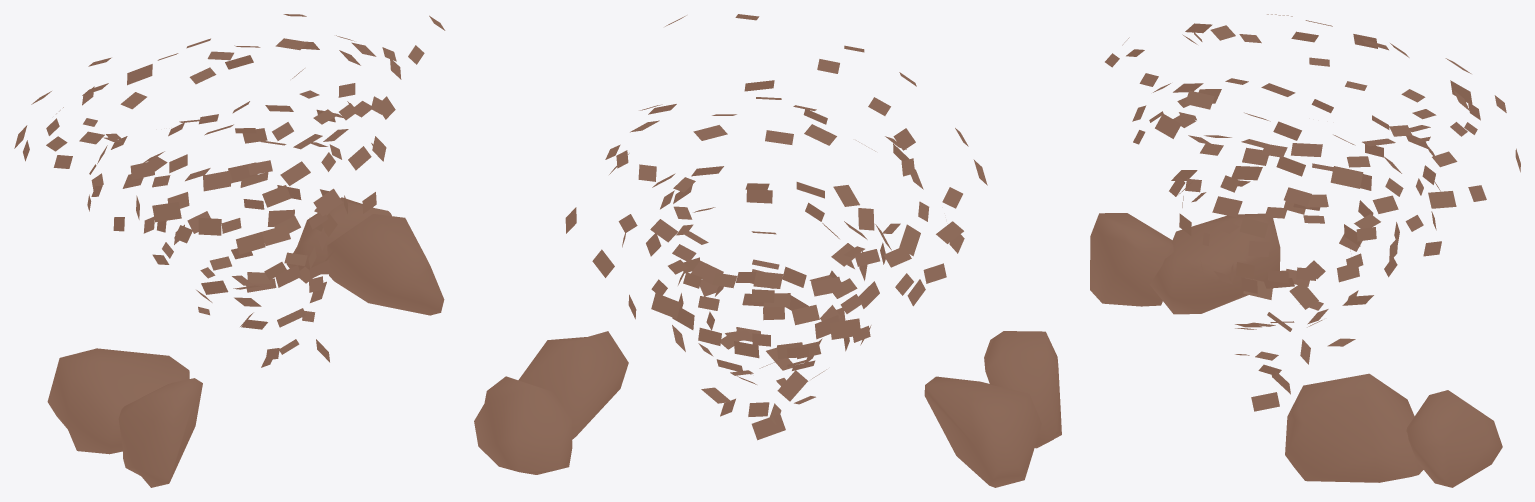
The model's file is sandstorm.fbx.
The picture shows the model from 3 angles, left to right: view 1: azimuth 30°, elevation 25°; view 2: azimuth 150°, elevation 25°; view 3: azimuth 270°, elevation 25°; orthographic projection. The views are drawn at different scales.
Visible parts, largest first — view 1: Helix_3, decorock2_2, decorock2_1, decorock2_3, decorock2; view 2: Helix_3, decorock2_2, decorock2, decorock2_1, decorock2_3; view 3: Helix_3, decorock2_1, decorock2_2, decorock2, decorock2_3.
Part boxes in pixels (x1,y1,x2,y2): Helix_3: (14,14,445,367); decorock2_2: (47,348,189,454); decorock2_1: (327,214,444,315); decorock2_3: (118,378,202,487); decorock2: (286,197,391,274); Helix_3: (565,14,987,440); decorock2_2: (924,376,1041,487); decorock2: (474,376,572,474); decorock2_1: (518,331,628,439); decorock2_3: (984,331,1061,448); Helix_3: (1105,14,1520,411); decorock2_1: (1285,373,1423,482); decorock2_2: (1149,213,1280,314); decorock2: (1406,390,1502,487); decorock2_3: (1090,213,1173,306).
Size of the model in its own units: 1639 by 1311 by 1367.
